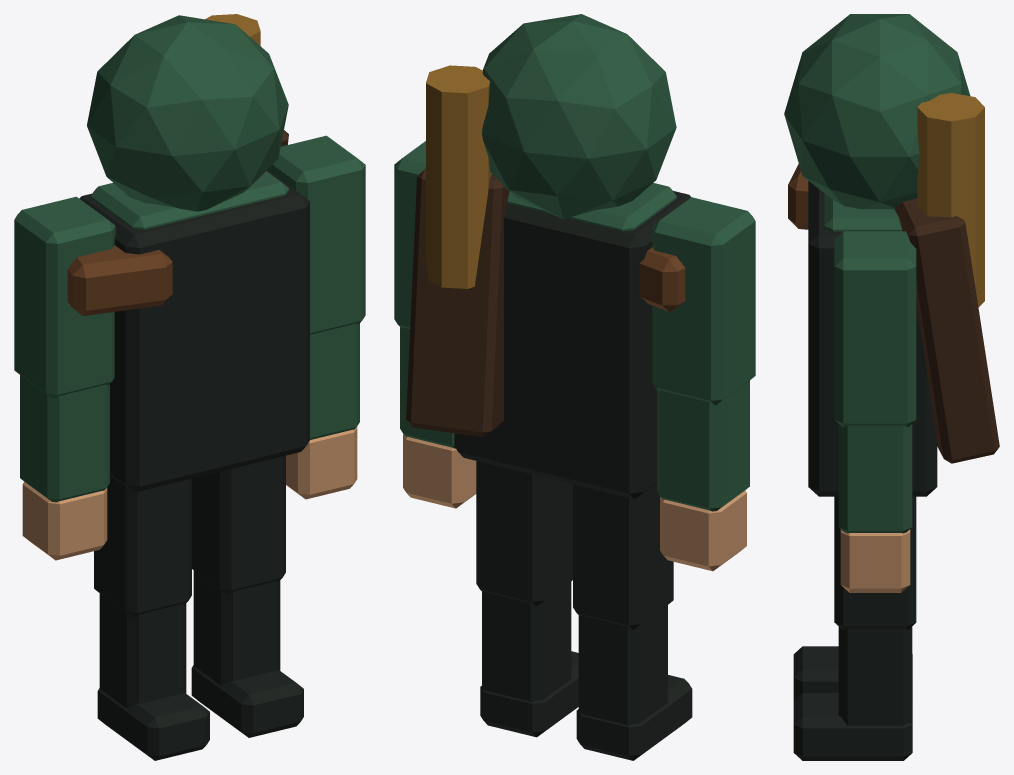
The model's file is TovinMossglenScout.glb.
The picture shows the model from 3 angles, left to right: view 1: azimuth 30°, elevation 25°; view 2: azimuth 150°, elevation 25°; view 3: azimuth 270°, elevation 25°; orthographic projection. The views are drawn at different scales.
Parts seen in each view (by area): view 1: UpperTorso_Tunic, Head_Hood, LeftUpperArm, RightUpperArm, LeftUpperLeg, RightUpperLeg, LeftLowerArm, LeftLowerLeg, RightLowerLeg, UpperTorso_ShoulderGuard, LeftFoot, RightFoot (+5 smaller); view 2: UpperTorso_Tunic, Head_Hood, LeftUpperArm, UpperTorso_Quiver, UpperTorso_ArrowBundle, RightUpperLeg, LeftUpperLeg, LeftLowerArm, RightLowerLeg, LeftLowerLeg, LeftHand, LeftFoot (+6 smaller); view 3: Head_Hood, RightUpperArm, UpperTorso_Quiver, UpperTorso_Tunic, UpperTorso_ArrowBundle, RightLowerArm, RightLowerLeg, RightFoot, RightUpperLeg, RightHand, LeftFoot, UpperTorso (+1 smaller).
Part boxes in pixels (x1,y1,x2,y2): UpperTorso_Tunic: [79, 170, 309, 492]; Head_Hood: [87, 15, 288, 211]; LeftUpperArm: [14, 196, 115, 398]; RightUpperArm: [267, 135, 365, 334]; LeftUpperLeg: [94, 475, 191, 617]; RightUpperLeg: [192, 455, 285, 594]; LeftLowerArm: [20, 375, 109, 502]; LeftLowerLeg: [99, 593, 186, 708]; RightLowerLeg: [193, 570, 280, 685]; UpperTorso_ShoulderGuard: [67, 245, 172, 315]; LeftFoot: [97, 688, 209, 760]; RightFoot: [191, 665, 303, 737]; UpperTorso_Tunic: [454, 191, 691, 499]; Head_Hood: [482, 14, 676, 219]; LeftUpperArm: [651, 197, 755, 405]; UpperTorso_Quiver: [406, 168, 509, 437]; UpperTorso_ArrowBundle: [426, 65, 491, 288]; RightUpperLeg: [476, 461, 572, 606]; LeftUpperLeg: [573, 483, 673, 629]; LeftLowerArm: [657, 380, 749, 511]; RightLowerLeg: [482, 581, 571, 701]; LeftLowerLeg: [578, 605, 667, 725]; LeftHand: [660, 490, 746, 571]; LeftFoot: [576, 675, 692, 760]; Head_Hood: [784, 14, 970, 209]; RightUpperArm: [834, 231, 916, 427]; UpperTorso_Quiver: [895, 198, 999, 463]; UpperTorso_Tunic: [808, 181, 937, 496]; UpperTorso_ArrowBundle: [917, 93, 984, 307]; RightLowerArm: [838, 424, 912, 533]; RightLowerLeg: [838, 626, 912, 725]; RightFoot: [793, 693, 912, 760]; RightUpperLeg: [834, 496, 916, 629]; RightHand: [840, 529, 910, 592]; LeftFoot: [793, 646, 912, 700]; UpperTorso: [824, 193, 902, 231].
Bounding box in the file's own units: 4.22 × 8.75 × 2.42.
1 material, 1 textured.
